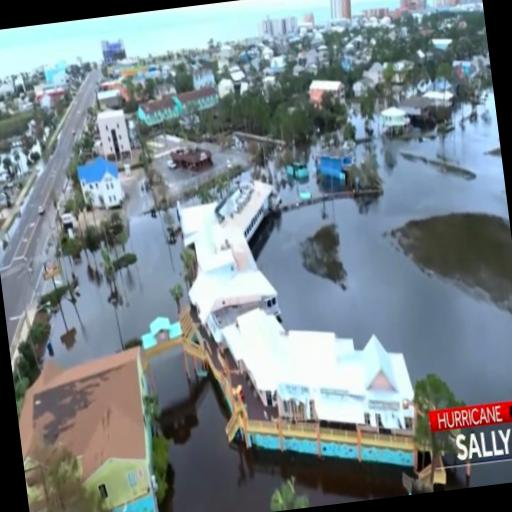flood: (257, 88, 512, 406), (161, 382, 408, 512), (41, 211, 182, 368), (181, 108, 369, 207)
house: (11, 343, 170, 512), (194, 264, 284, 334), (214, 178, 283, 244), (352, 332, 406, 405), (76, 158, 124, 211), (96, 108, 132, 162), (138, 94, 180, 127), (308, 76, 348, 104), (177, 86, 220, 112), (403, 95, 432, 116), (368, 60, 386, 82)
